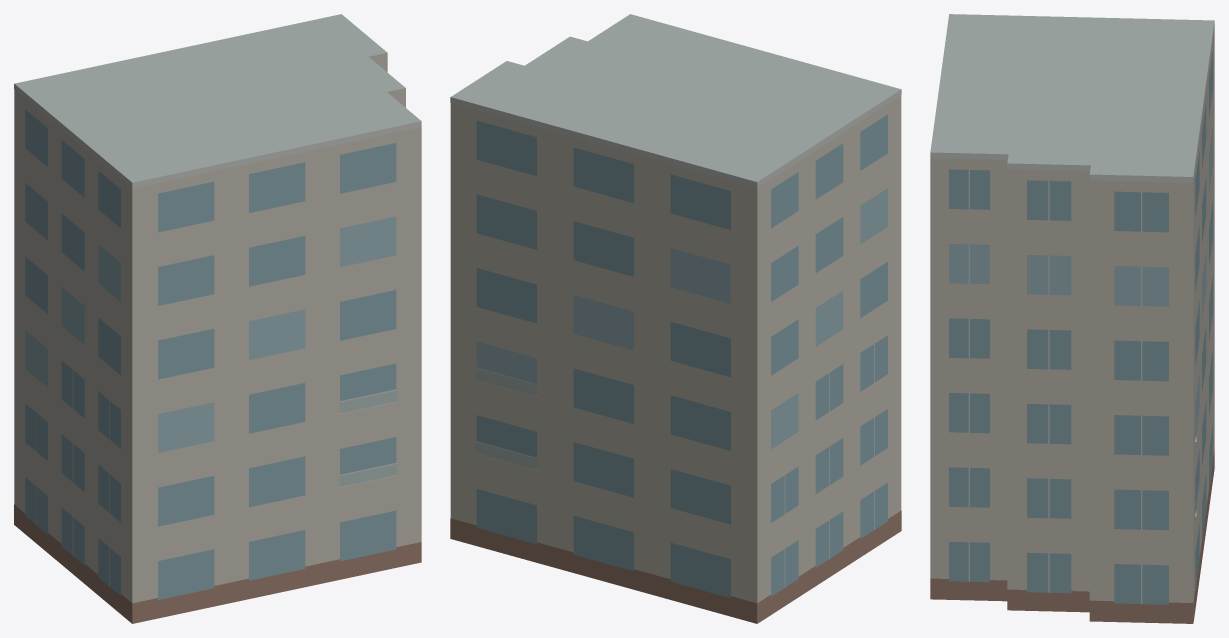
The model's file is survey-upis-32665475.glb.
The picture shows the model from 3 angles, left to right: view 1: azimuth 30°, elevation 25°; view 2: azimuth 150°, elevation 25°; view 3: azimuth 270°, elevation 25°; orthographic projection.
Parts seen in each view (by area): view 1: survey-upis-32665475.tmp; view 2: survey-upis-32665475.tmp; view 3: survey-upis-32665475.tmp.
Boxes of the visible parts, x1,y1,x2,y2 form: survey-upis-32665475.tmp: (14, 14, 421, 623); survey-upis-32665475.tmp: (450, 14, 901, 623); survey-upis-32665475.tmp: (930, 14, 1214, 623).
Bounding box in the file's own units: 14.32 × 18.3 × 10.56.
